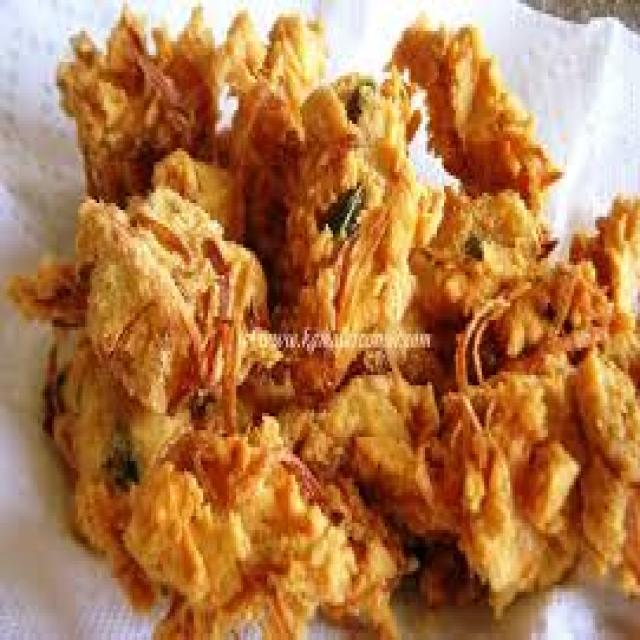BAJI: (0, 0, 638, 637)
